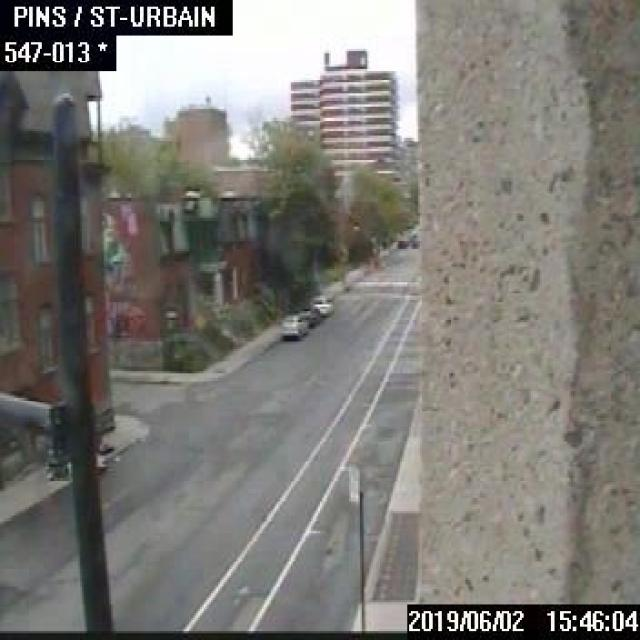vehicle: (278, 311, 307, 338), (308, 293, 333, 316), (296, 304, 319, 324), (396, 231, 419, 247)
